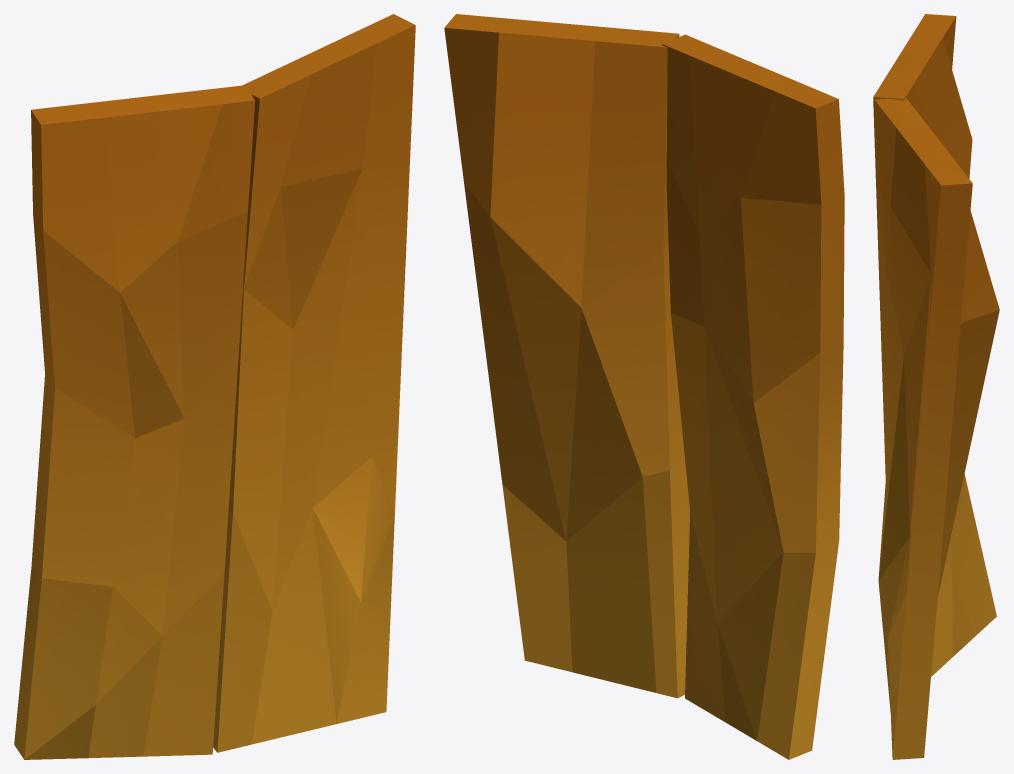
The model's file is anim-porte.glb.
3 views of the same model, side by side, from view 1: azimuth 30°, elevation 25°; view 2: azimuth 150°, elevation 25°; view 3: azimuth 270°, elevation 25° (orthographic). The views are drawn at different scales.
Parts seen in each view (by area): view 1: G1_DM_door_tree_msh.003, G1_DM_door_tree_msh.005; view 2: G1_DM_door_tree_msh.005, G1_DM_door_tree_msh.003; view 3: G1_DM_door_tree_msh.005, G1_DM_door_tree_msh.003.
Part boxes in pixels (x1,y1,x2,y2): G1_DM_door_tree_msh.003: (14, 85, 255, 759); G1_DM_door_tree_msh.005: (213, 14, 415, 752); G1_DM_door_tree_msh.005: (444, 14, 689, 698); G1_DM_door_tree_msh.003: (662, 34, 844, 759); G1_DM_door_tree_msh.005: (874, 98, 999, 759); G1_DM_door_tree_msh.003: (873, 14, 996, 676).
Bounding box in the file's own units: 1.75 × 2.84 × 0.5425.
Materials: 1 (1 with a texture image).
